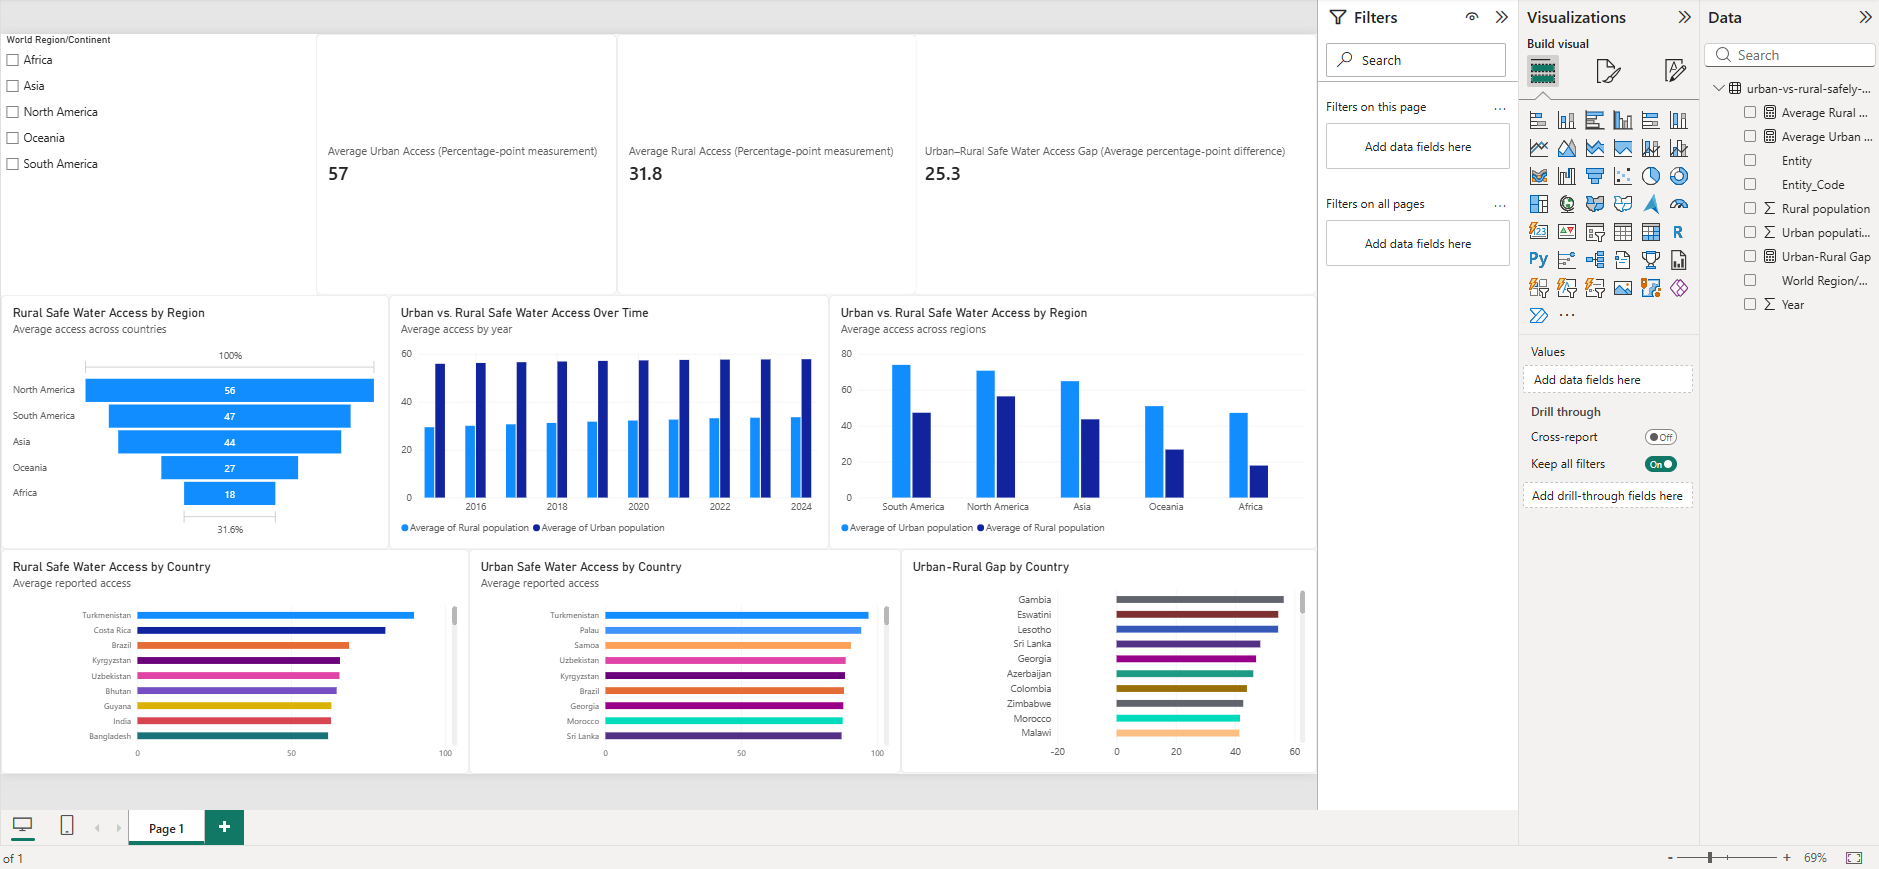

The page's visual inventory and layout, read from the dashboard file:
{"tool":"powerbi","page":{"name":"Page 1","canvas":[1920,1080],"ordinal":0},"visuals":[{"type":"funnel","title":"Rural Safe Water Access by Region","fields":{"Category":["urban-vs-rural-safely-managed-d.World Region/Continent"],"Y":["Avg(urban-vs-rural-safely-managed-d.Rural population)"]},"box":[0,380.8,566.1,370.6],"z":0},{"type":"barChart","title":"Rural Safe Water Access by Country","fields":{"Category":["urban-vs-rural-safely-managed-d.Entity"],"Y":["Avg(urban-vs-rural-safely-managed-d.Rural population)"],"Series":["urban-vs-rural-safely-managed-d.Entity"]},"box":[0,751.4,682.8,328.3],"z":1000},{"type":"clusteredColumnChart","title":"Urban vs. Rural Safe Water Access by Region","fields":{"Category":["urban-vs-rural-safely-managed-d.World Region/Continent"],"Y":["Avg(urban-vs-rural-safely-managed-d.Urban population)","Avg(urban-vs-rural-safely-managed-d.Rural population)"]},"box":[1208,380.8,712,370.6],"z":2000},{"type":"clusteredColumnChart","title":"Urban vs. Rural Safe Water Access Over Time","fields":{"Category":["urban-vs-rural-safely-managed-d.Year"],"Y":["Avg(urban-vs-rural-safely-managed-d.Rural population)","Avg(urban-vs-rural-safely-managed-d.Urban population)"]},"box":[566.1,380.8,641.9,370.6],"z":3000},{"type":"slicer","fields":{"Values":["urban-vs-rural-safely-managed-d.World Region/Continent"]},"box":[0,0,459.6,380.8],"z":4000},{"type":"cardVisual","fields":{"Data":["urban-vs-rural-safely-managed-d.Urban-Rural Gap"]},"box":[1330.6,0,589.4,380.8],"z":5000},{"type":"cardVisual","fields":{"Data":["urban-vs-rural-safely-managed-d.Average Rural Access"]},"box":[898.7,0,437.7,380.8],"z":6000},{"type":"cardVisual","fields":{"Data":["urban-vs-rural-safely-managed-d.Average Urban Access"]},"box":[459.6,0,439.1,380.8],"z":7000},{"type":"barChart","title":"Urban Safe Water Access by Country","fields":{"Category":["urban-vs-rural-safely-managed-d.Entity"],"Y":["Avg(urban-vs-rural-safely-managed-d.Urban population)"],"Series":["urban-vs-rural-safely-managed-d.Entity"]},"box":[682.8,751.4,630.3,328.3],"z":8000},{"type":"barChart","title":"Urban-Rural Gap by Country","fields":{"Category":["urban-vs-rural-safely-managed-d.Entity"],"Y":["urban-vs-rural-safely-managed-d.Urban-Rural Gap"],"Series":["urban-vs-rural-safely-managed-d.Entity"]},"box":[1313,752,607,327],"z":9000}]}

Visuals, with their boxes on the page's 1920x1080 design canvas (x1, y1, x2, y2). These are canvas units, not pixel positions in the 1879x869 screenshot, which may show the page scaled, cropped or inside an application window:
"Rural Safe Water Access by Region" funnel: crop(0, 381, 566, 751)
"Rural Safe Water Access by Country" barChart: crop(0, 751, 683, 1080)
"Urban vs. Rural Safe Water Access by Region" clusteredColumnChart: crop(1208, 381, 1920, 751)
"Urban vs. Rural Safe Water Access Over Time" clusteredColumnChart: crop(566, 381, 1208, 751)
slicer - urban-vs-rural-safely-managed-d.World Region/Continent: crop(0, 0, 460, 381)
cardVisual - urban-vs-rural-safely-managed-d.Urban-Rural Gap: crop(1331, 0, 1920, 381)
cardVisual - urban-vs-rural-safely-managed-d.Average Rural Access: crop(899, 0, 1336, 381)
cardVisual - urban-vs-rural-safely-managed-d.Average Urban Access: crop(460, 0, 899, 381)
"Urban Safe Water Access by Country" barChart: crop(683, 751, 1313, 1080)
"Urban-Rural Gap by Country" barChart: crop(1313, 752, 1920, 1079)
